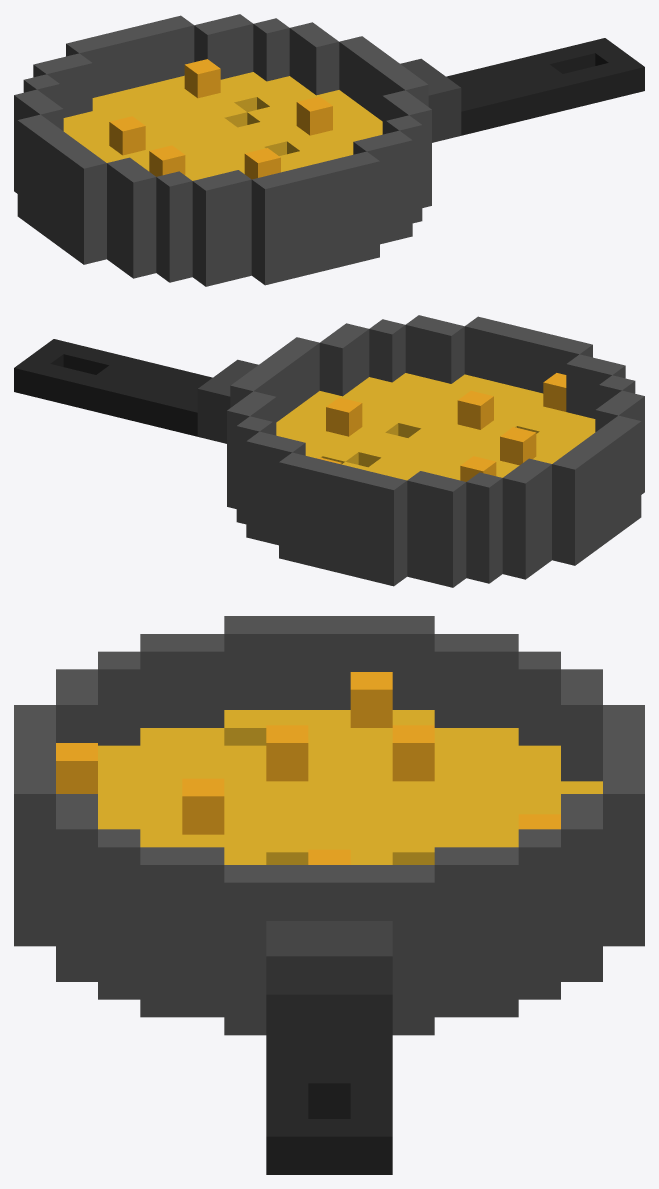
The model's file is Pan.fbx.
3 views of the same model, one above another, from view 1: azimuth 30°, elevation 25°; view 2: azimuth 150°, elevation 25°; view 3: azimuth 270°, elevation 25° (orthographic). The views are drawn at different scales.
Parts seen in each view (by area): view 1: pan:pan; view 2: pan:pan; view 3: pan:pan.
Part boxes in pixels (bbox=[...]): pan:pan: bbox=[14, 14, 644, 286]; pan:pan: bbox=[14, 315, 644, 587]; pan:pan: bbox=[14, 616, 644, 1174].
Size of the model in its own units: 25 by 4 by 15.
